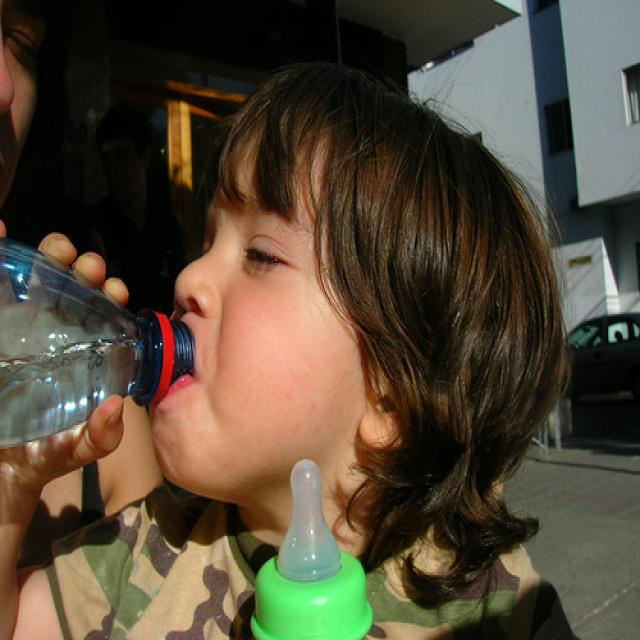light_vehicle: (558, 308, 639, 400)
